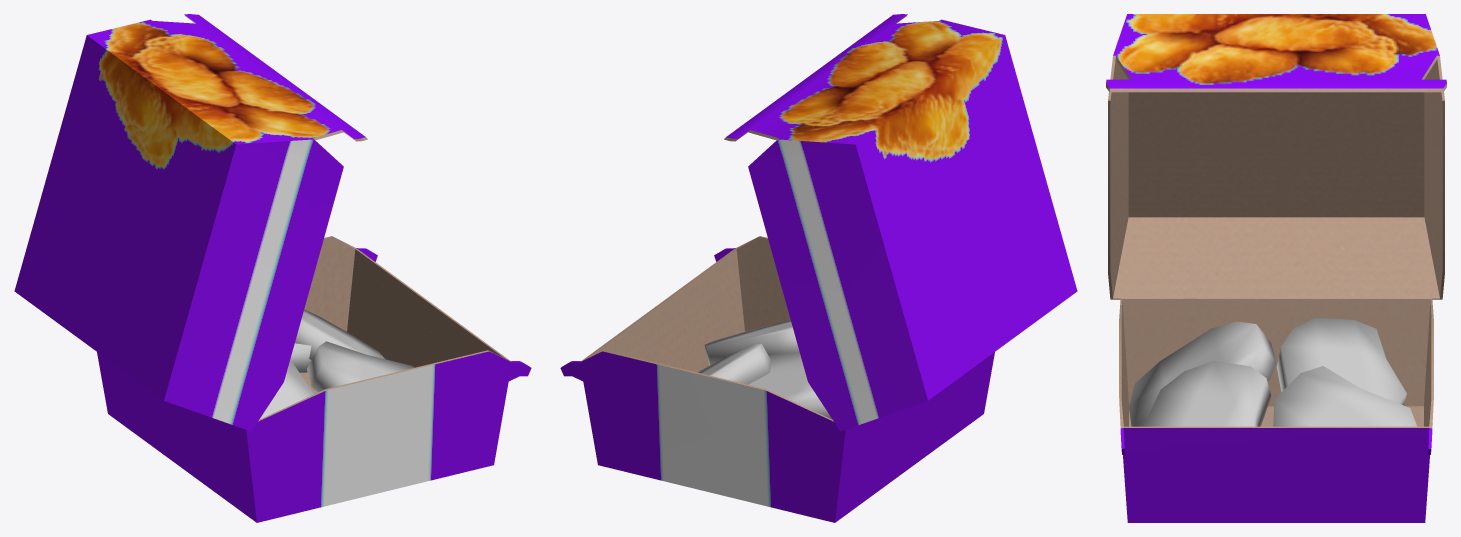
Rendered from naggets_in_box.fbx.
3 views of the same model, side by side, from view 1: azimuth 30°, elevation 25°; view 2: azimuth 150°, elevation 25°; view 3: azimuth 270°, elevation 25° (orthographic).
Parts seen in each view (by area): view 1: pack_bigknight_lid_LOD00, pack_bigknight_body_LOD00, Cube; view 2: pack_bigknight_lid_LOD00, pack_bigknight_body_LOD00, Cube; view 3: pack_bigknight_lid_LOD00, pack_bigknight_body_LOD00, Cube.
Boxes of the visible parts, left/top/right/bottom form: pack_bigknight_lid_LOD00: left=14, top=14, right=367, bottom=431; pack_bigknight_body_LOD00: left=97, top=236, right=531, bottom=522; Cube: left=259, top=309, right=414, bottom=419; pack_bigknight_lid_LOD00: left=724, top=14, right=1077, bottom=431; pack_bigknight_body_LOD00: left=560, top=236, right=994, bottom=522; Cube: left=697, top=320, right=832, bottom=419; pack_bigknight_lid_LOD00: left=1106, top=14, right=1446, bottom=299; pack_bigknight_body_LOD00: left=1119, top=298, right=1433, bottom=522; Cube: left=1129, top=317, right=1417, bottom=426.
Size of what is drawn, in the model's own units: 25.12 by 25.25 by 20.35.
